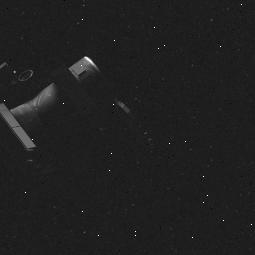cheops: (0, 56, 156, 162)
